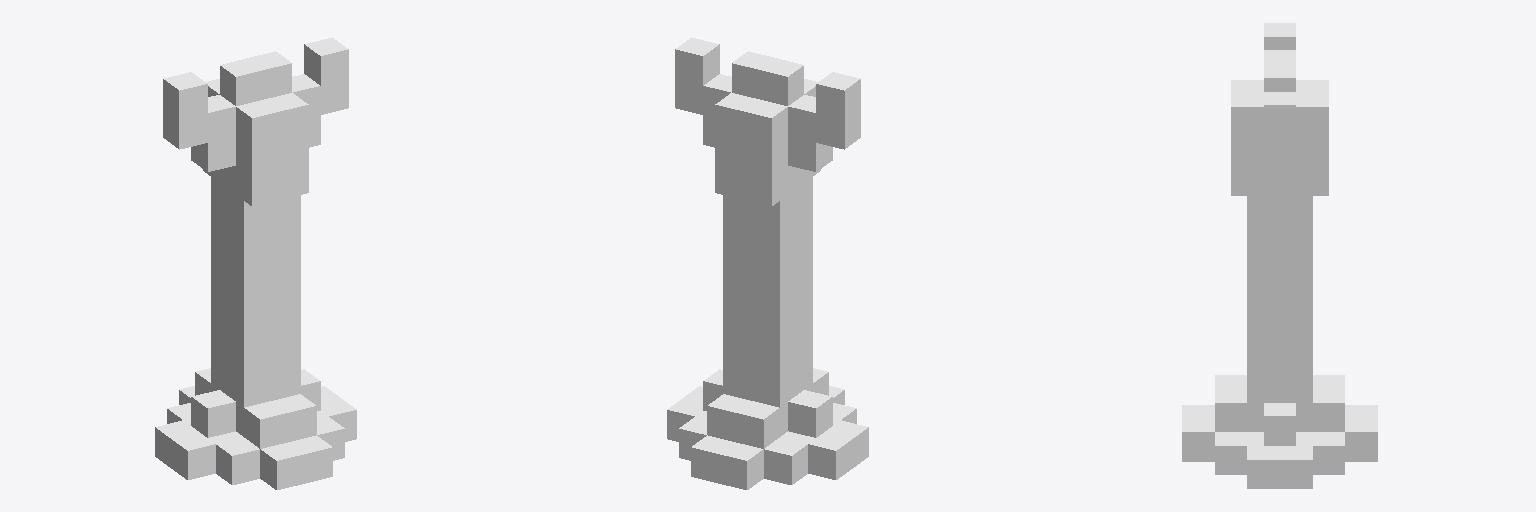
File: queen.obj
3 views of the same model, side by side, from view 1: azimuth 30°, elevation 25°; view 2: azimuth 150°, elevation 25°; view 3: azimuth 270°, elevation 25° (orthographic).
Bounding box in the file's own units: 6 × 13 × 6.